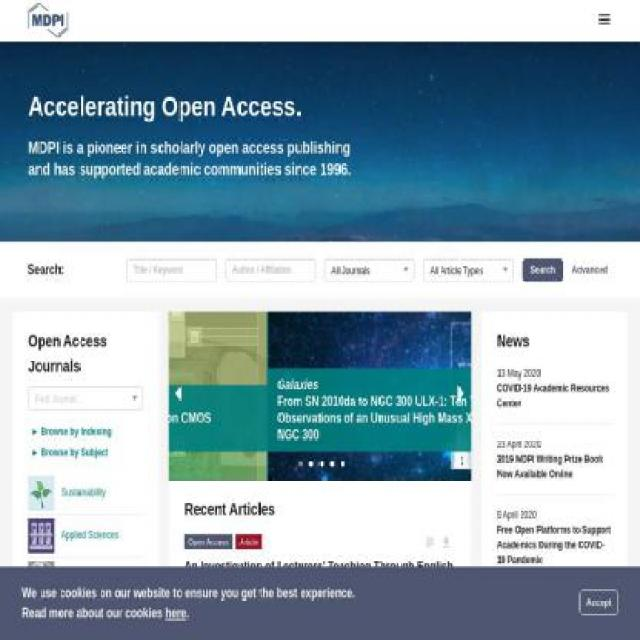button: (168, 312, 472, 480), (471, 312, 640, 482), (184, 557, 456, 612), (497, 522, 612, 567), (28, 472, 143, 516), (28, 514, 143, 558), (28, 557, 143, 600), (28, 600, 144, 638), (497, 381, 612, 412), (497, 452, 612, 482), (28, 387, 143, 410), (323, 258, 415, 282), (423, 258, 514, 282), (28, 424, 143, 439), (28, 445, 143, 460), (26, 2, 72, 38), (578, 590, 618, 615), (594, 2, 615, 35), (440, 535, 452, 553), (424, 535, 436, 553)
field: (224, 258, 316, 282), (126, 258, 217, 282), (31, 412, 140, 432), (426, 284, 511, 304), (327, 284, 411, 304), (522, 258, 563, 282)
